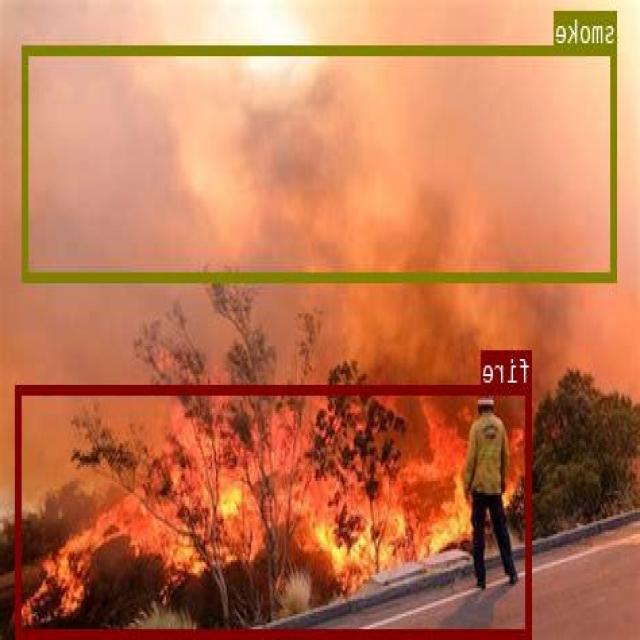fire: (18, 384, 532, 636)
smoke: (23, 45, 618, 281)
